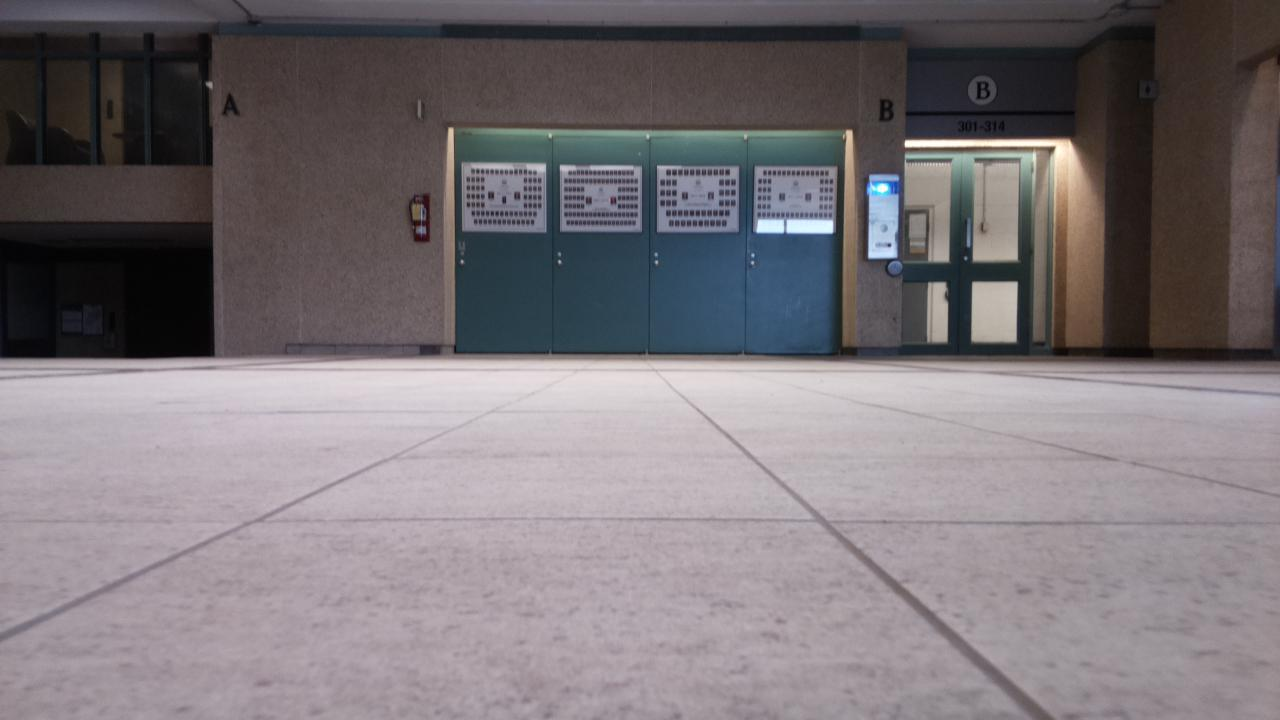door: (899, 147, 1032, 355), (744, 137, 844, 354), (647, 137, 747, 353), (455, 133, 552, 353), (551, 137, 649, 352)
